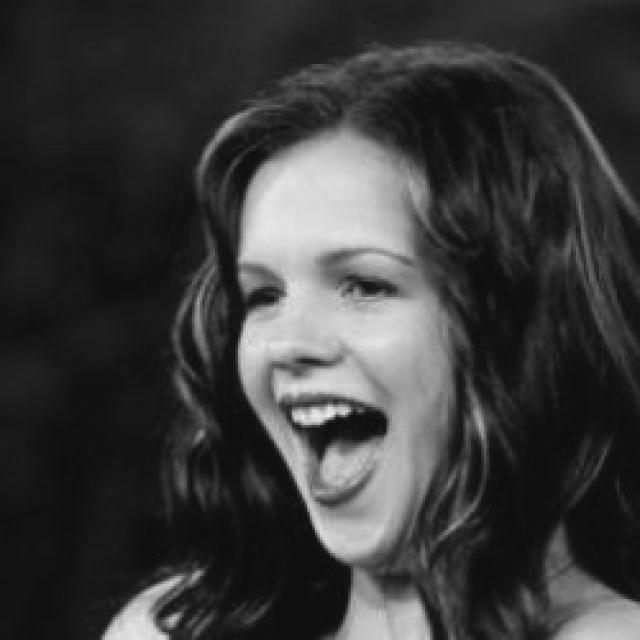real: (224, 132, 491, 568), (238, 256, 405, 323)
